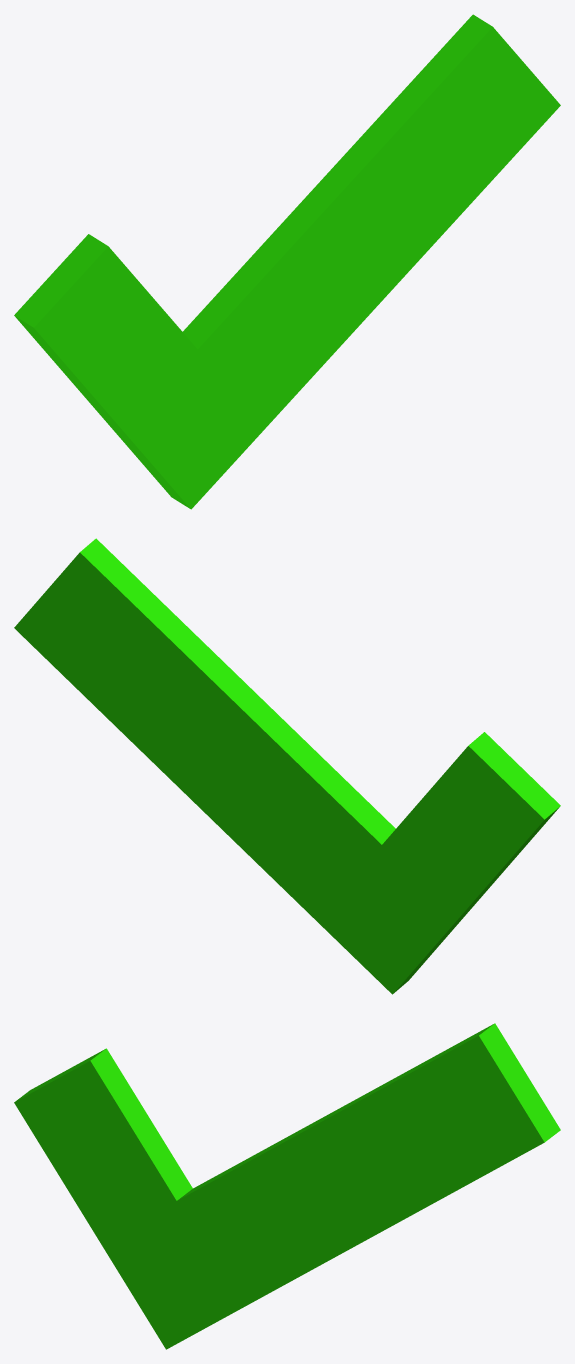
Rendered from Epreuve.fbx.
3 renders of one model, top to bottom at view 1: azimuth 30°, elevation 25°; view 2: azimuth 150°, elevation 25°; view 3: azimuth 330°, elevation 25°, orthographic. The views are drawn at different scales.
Parts seen in each view (by area): view 1: Cube.001; view 2: Cube.001; view 3: Cube.001.
Boxes of the visible parts, bbox=[...] form: Cube.001: bbox=[14, 14, 560, 509]; Cube.001: bbox=[14, 538, 560, 994]; Cube.001: bbox=[14, 1023, 560, 1349].
Size of what is drawn, in the model's own units: 347 by 243 by 36.65.
